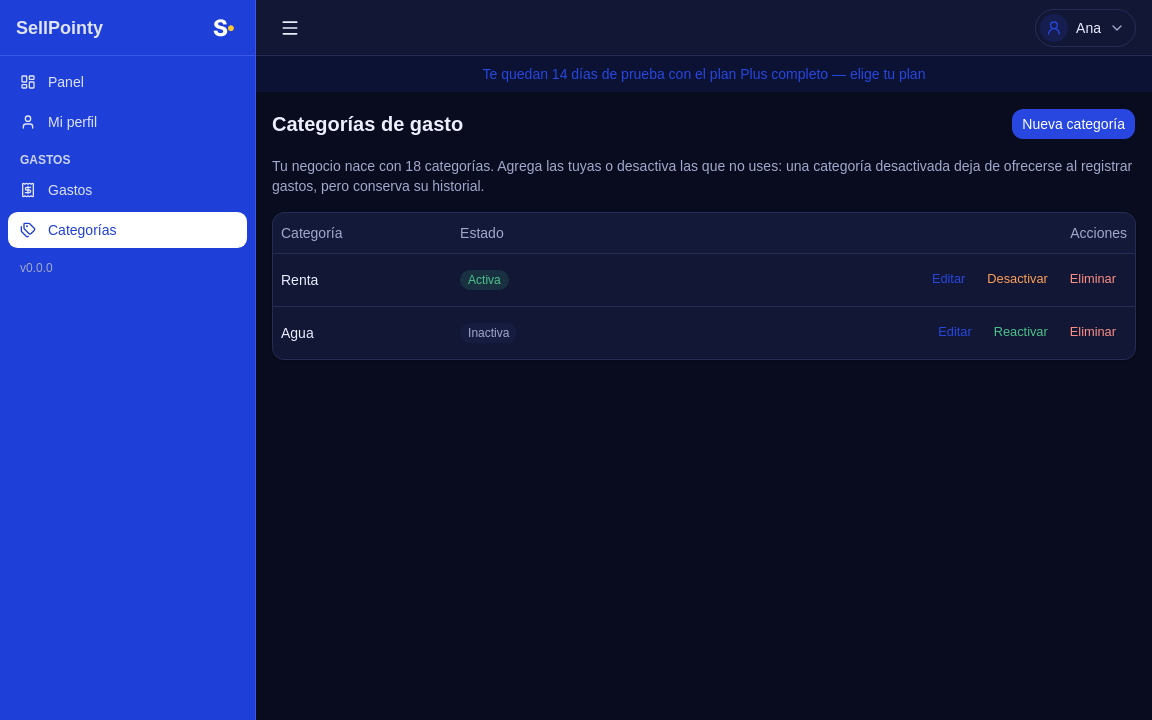
Scenario: Categorías de gasto (F9-EXP-03) › el 409 de «en uso» al borrar se muestra sin romper la tabla
Click the button "Eliminar" in the row of "Renta". click: (1093, 280)
box: [1059,266,1127,294]
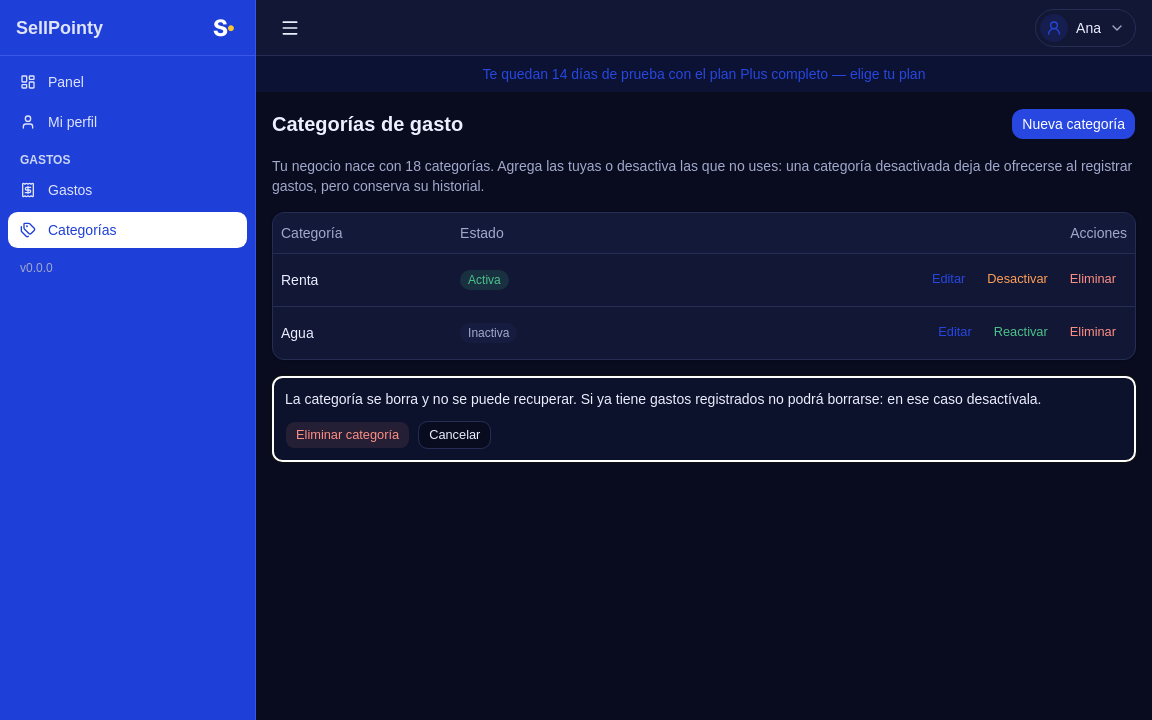
Click the button "Eliminar categoría". click: (348, 434)
box: [285,420,410,448]
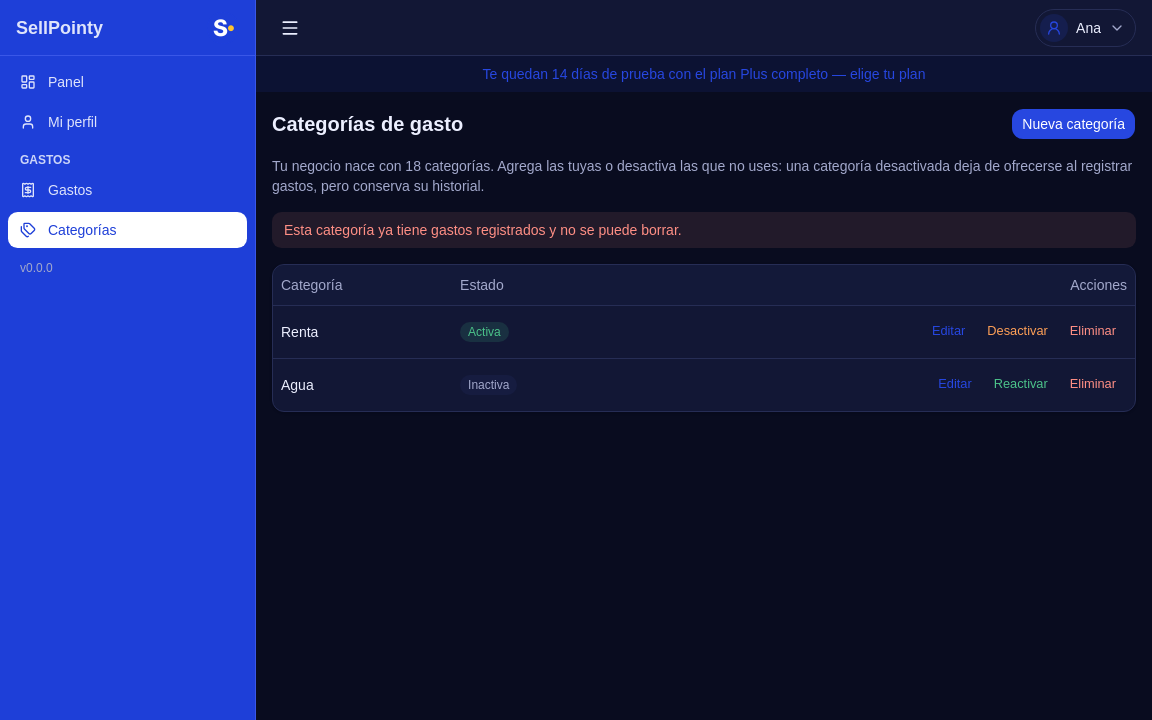
Expected: the row with test id "expense-category-c1" is shown, [273,305,1135,358]
Expected: the message shows "no se puede borrar", [284,222,682,238]
